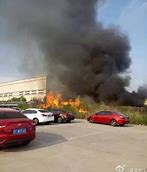smoke: (1, 1, 144, 105)
